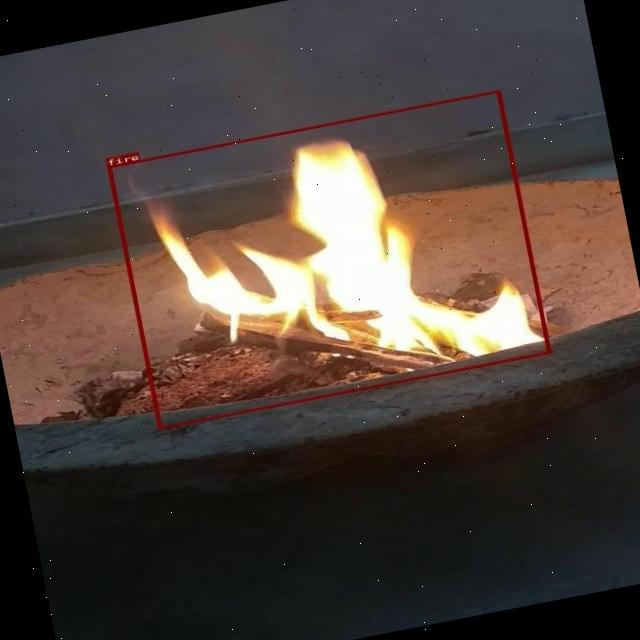fire: (107, 90, 551, 430)
